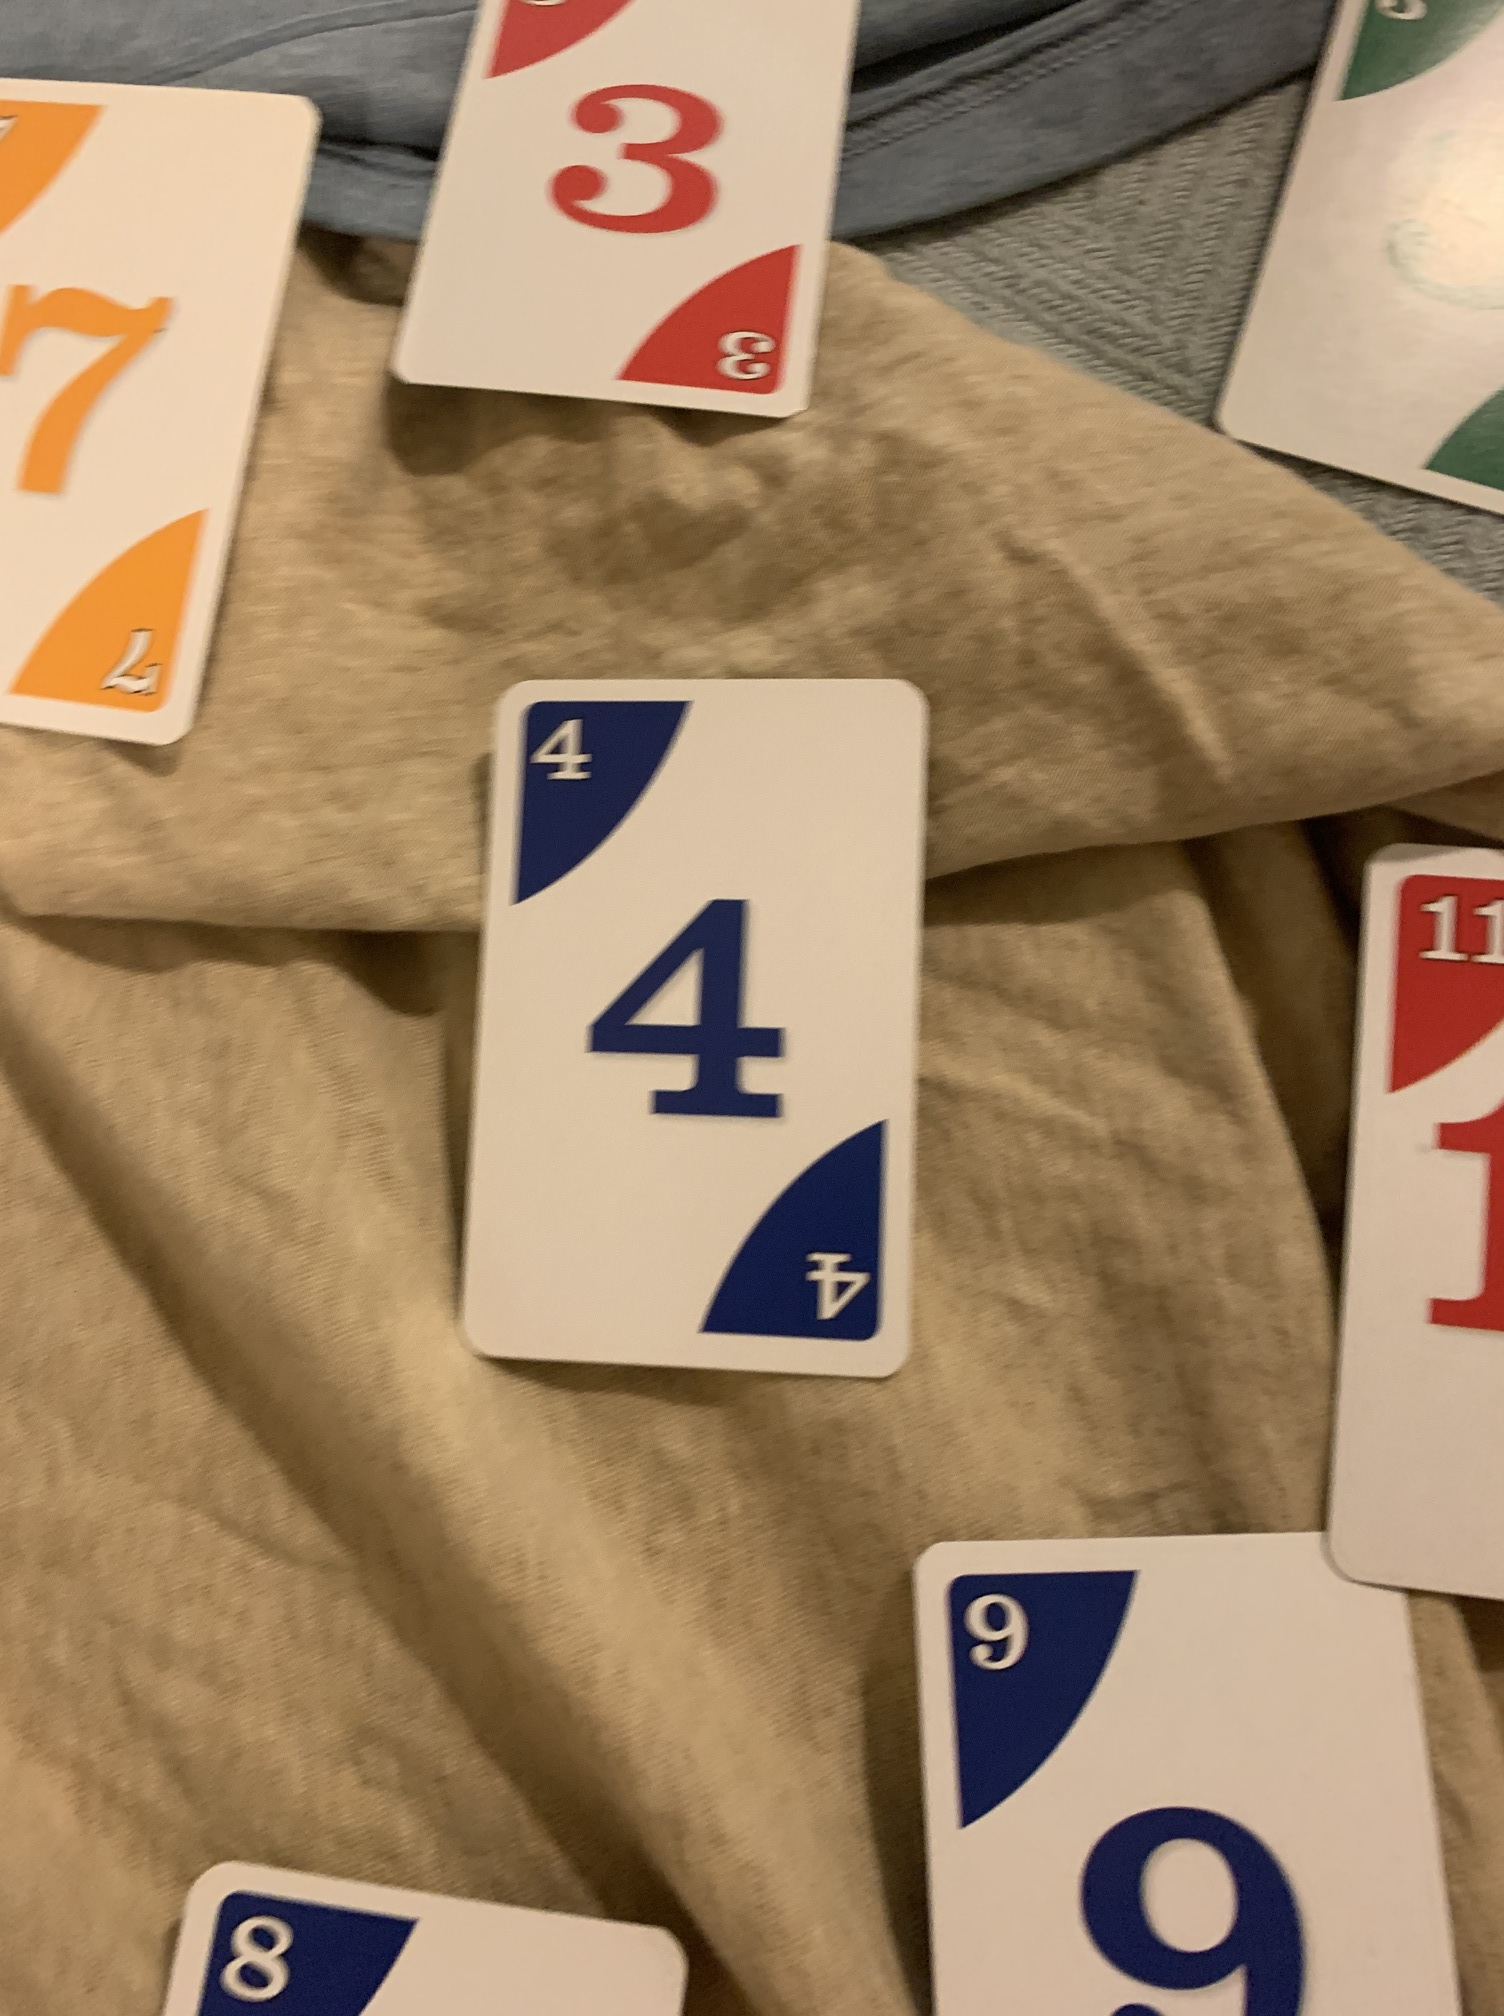four: (446, 671, 934, 1386)
nine: (912, 1518, 1453, 2016)
three: (417, 2, 882, 438)
